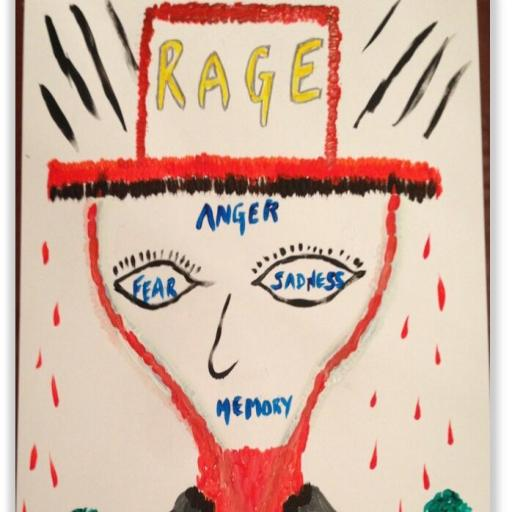person: (49, 0, 442, 511)
